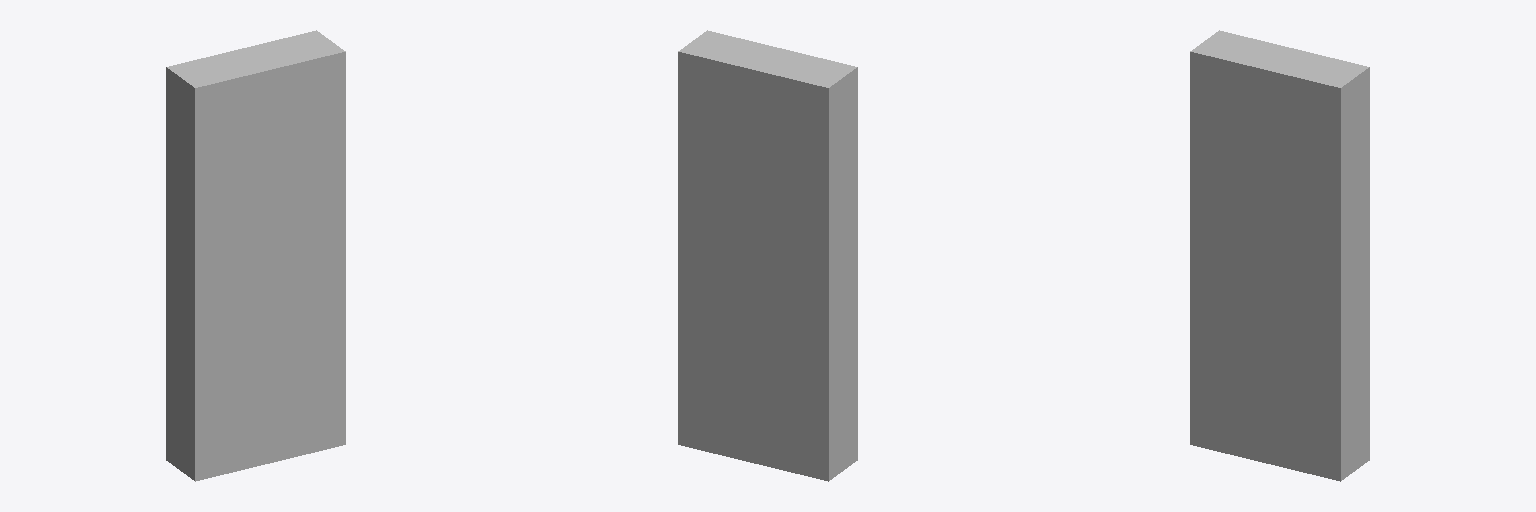
Rendered from up_floor2.obj.
The picture shows the model from 3 angles: view 1: azimuth 30°, elevation 25°; view 2: azimuth 150°, elevation 25°; view 3: azimuth 330°, elevation 25°; orthographic projection.
Size of the model in its own units: 960 by 2400 by 320.